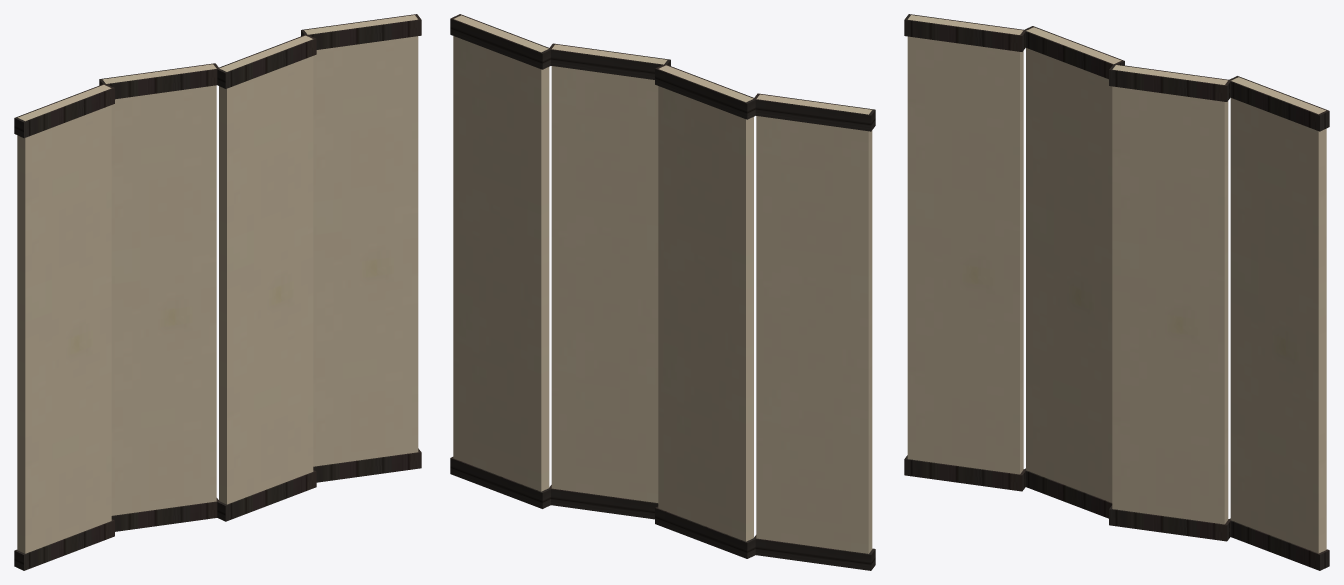
File: screen_folding_01.glb
3 views of the same model, side by side, from view 1: azimuth 30°, elevation 25°; view 2: azimuth 150°, elevation 25°; view 3: azimuth 330°, elevation 25° (orthographic).
Visible parts, largest first — view 1: screen_folding_01; view 2: screen_folding_01; view 3: screen_folding_01.
Part boxes in pixels (bbox=[...]): screen_folding_01: bbox=[14, 14, 421, 570]; screen_folding_01: bbox=[450, 14, 875, 570]; screen_folding_01: bbox=[904, 14, 1329, 570].
Size of the model in its own units: 1.62 by 1.7 by 0.1762.
Materials: 2 (2 with a texture image).
